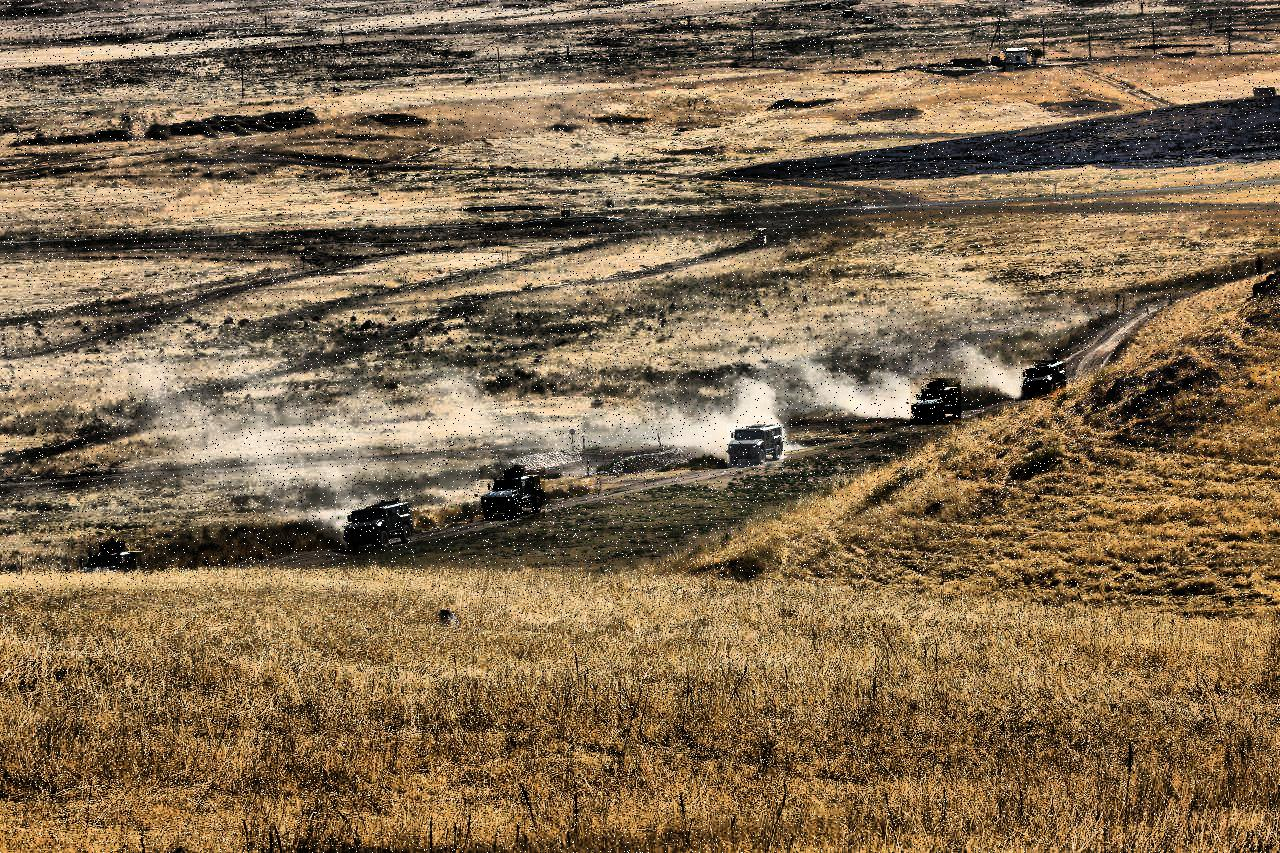military-vehicle: (341, 500, 417, 551), (480, 466, 546, 520), (727, 424, 784, 467), (910, 379, 961, 426), (1021, 360, 1066, 400)
